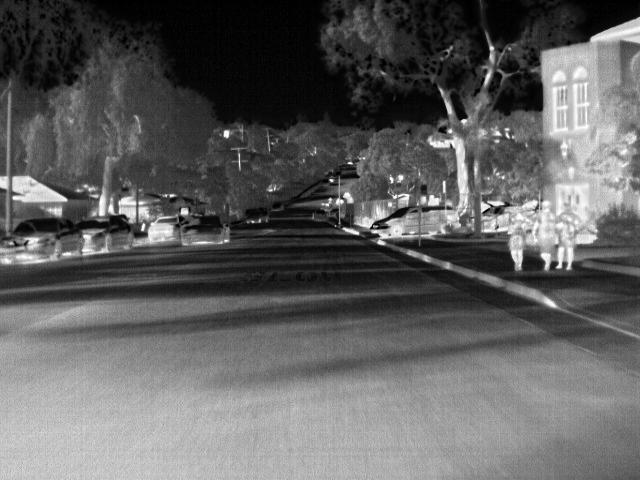car: (6, 218, 80, 266), (369, 204, 455, 237), (77, 215, 132, 255), (180, 214, 228, 246), (483, 202, 515, 230), (146, 216, 182, 240), (246, 205, 269, 225), (308, 208, 326, 222), (271, 199, 286, 213)
person: (555, 201, 577, 270), (533, 200, 554, 271), (505, 215, 525, 270)
